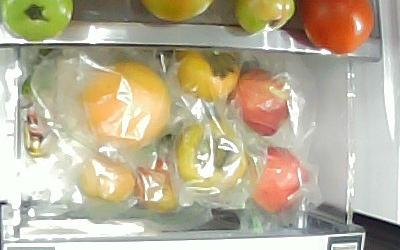apple_vinyl: (230, 70, 292, 135), (250, 147, 310, 211)
grapefruit_vinyl: (81, 61, 172, 151)
persimmon_vinyl: (176, 121, 245, 193), (176, 51, 243, 102)
prune_vinyl: (80, 156, 135, 205), (135, 159, 182, 216)
